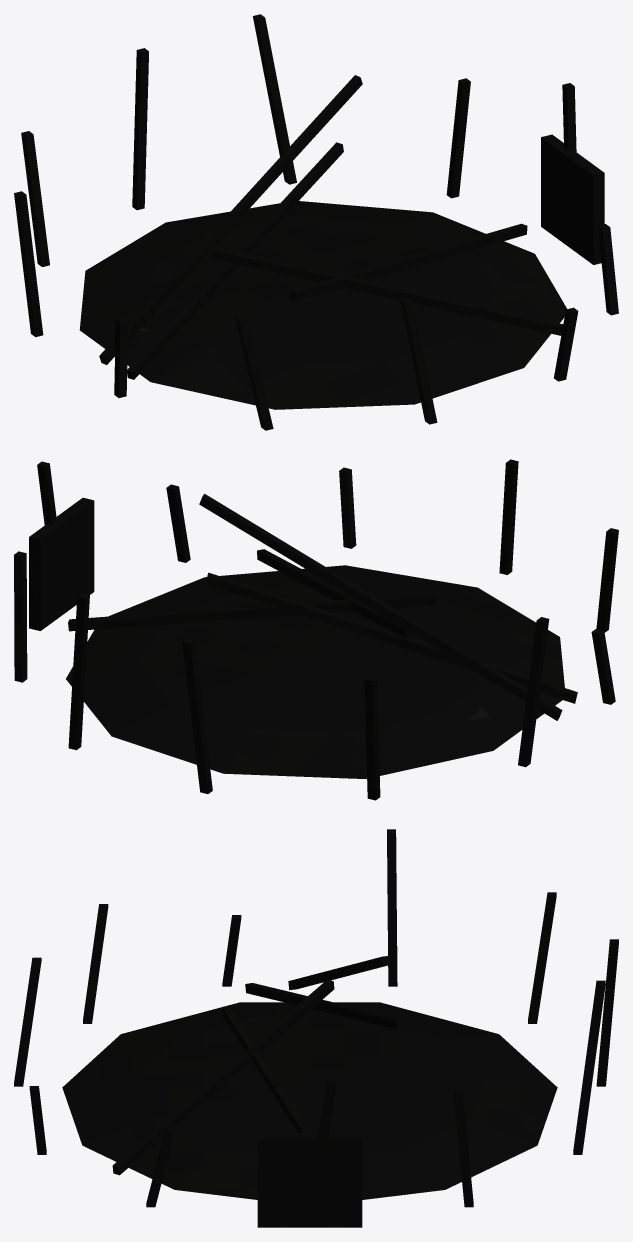
The model's file is yurta_quemada.glb.
3 views of the same model, one above another, from view 1: azimuth 30°, elevation 25°; view 2: azimuth 150°, elevation 25°; view 3: azimuth 270°, elevation 25° (orthographic). The views are drawn at different scales.
Visible parts, largest first — view 1: cenizas, enrejado, varas, puerta; view 2: cenizas, enrejado, varas, puerta; view 3: cenizas, enrejado, puerta, varas.
Part boxes in pixels (bbox=[...]): cenizas: bbox=[79, 201, 566, 409]; enrejado: bbox=[14, 14, 618, 430]; varas: bbox=[99, 75, 563, 379]; puerta: bbox=[541, 134, 604, 264]; cenizas: bbox=[66, 565, 564, 778]; enrejado: bbox=[14, 459, 618, 800]; varas: bbox=[68, 493, 577, 720]; puerta: bbox=[29, 497, 94, 630]; cenizas: bbox=[62, 1002, 557, 1199]; enrejado: bbox=[14, 829, 618, 1207]; puerta: bbox=[257, 1133, 362, 1227]; varas: bbox=[112, 955, 403, 1175].
Bounding box in the file's own units: 4.5 × 1.5 × 4.5.
1 material, 1 textured.
